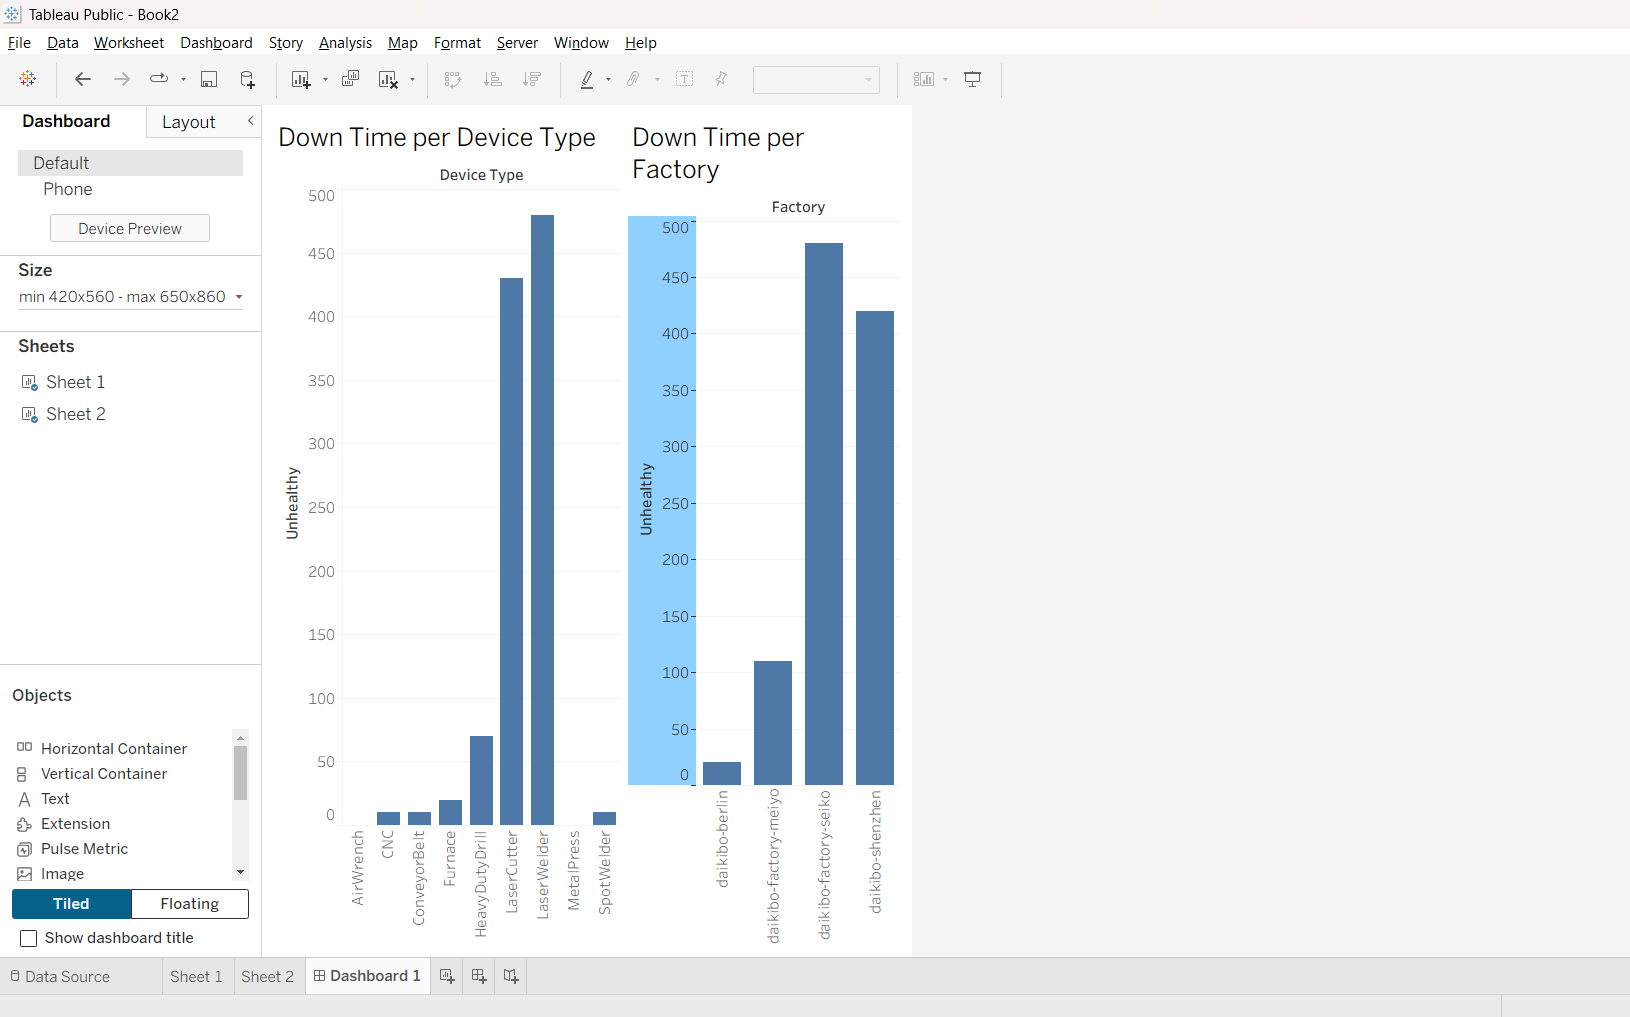

The page's visual inventory and layout, read from the dashboard file:
{"tool":"tableau","page":{"name":"Dashboard 1","canvas":[650,860],"ordinal":0},"visuals":[{"type":"worksheet","title":"Sheet 2","mark":"Automatic","rows":["Calculation_1197700303761410"],"cols":["deviceType"],"box":[8,8.1,317,843.8]},{"type":"worksheet","title":"Sheet 1","mark":"Automatic","rows":["Calculation_1197700303761410"],"cols":["factory"],"box":[325,8.1,317,843.8]}]}

Visuals, with their boxes on the page's 650x860 design canvas (x1, y1, x2, y2). These are canvas units, not pixel positions in the 1630x1017 screenshot, which may show the page scaled, cropped or inside an application window:
"Sheet 2" worksheet: (x1=8, y1=8, x2=325, y2=852)
"Sheet 1" worksheet: (x1=325, y1=8, x2=642, y2=852)
